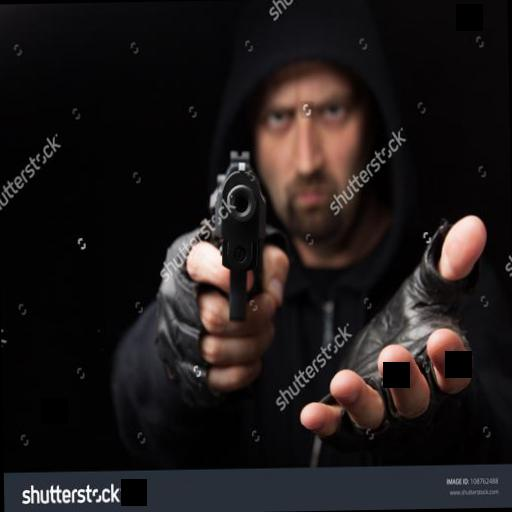Handgun: (206, 148, 277, 324)
